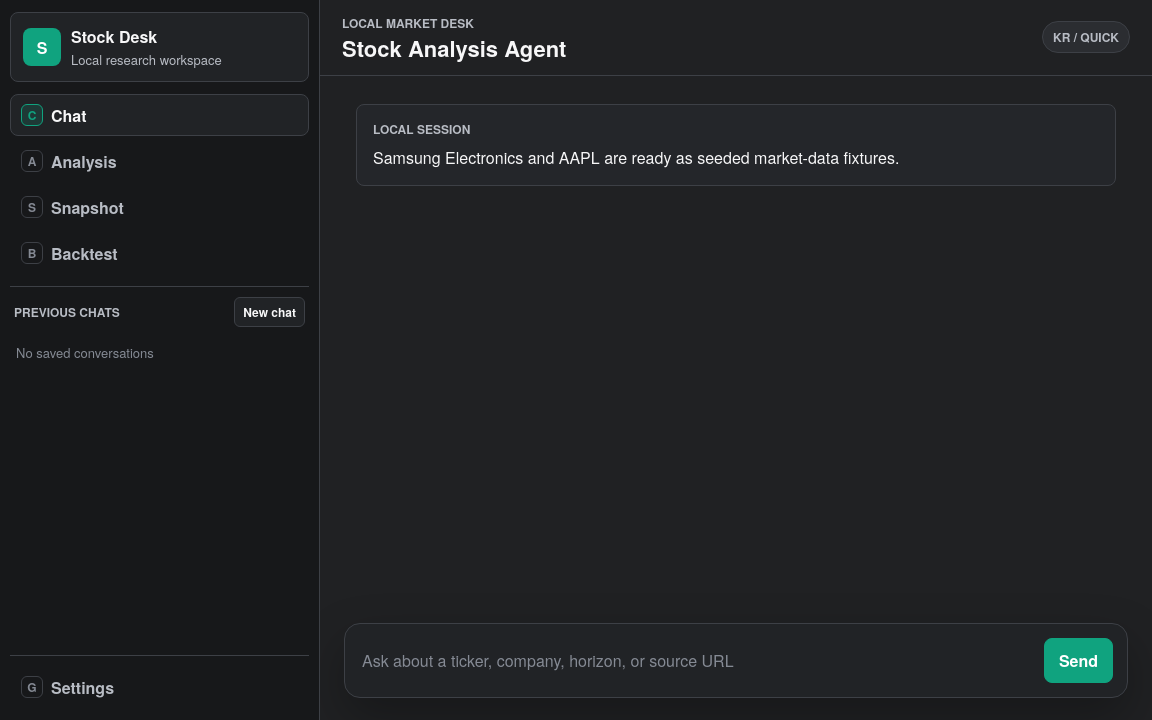
Test case: App › opens a fresh empty chat when New chat is clicked
expect the heading "Stock Analysis Agent" is shown: met, box left=342, top=36, right=566, bottom=61
Type "AAPL" into the field named "Message".
click(696, 660); type("AAPL")  # box left=359, top=638, right=1034, bottom=683
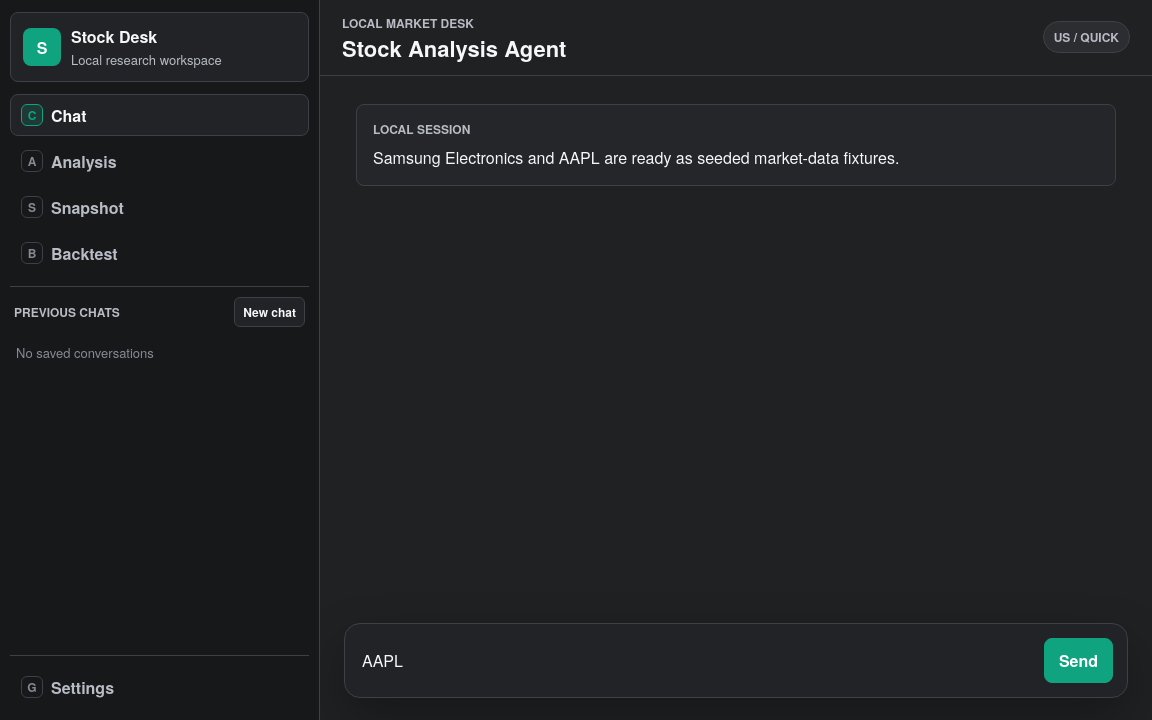
Click the button "Send".
click(1078, 660)  # box left=1044, top=638, right=1113, bottom=683
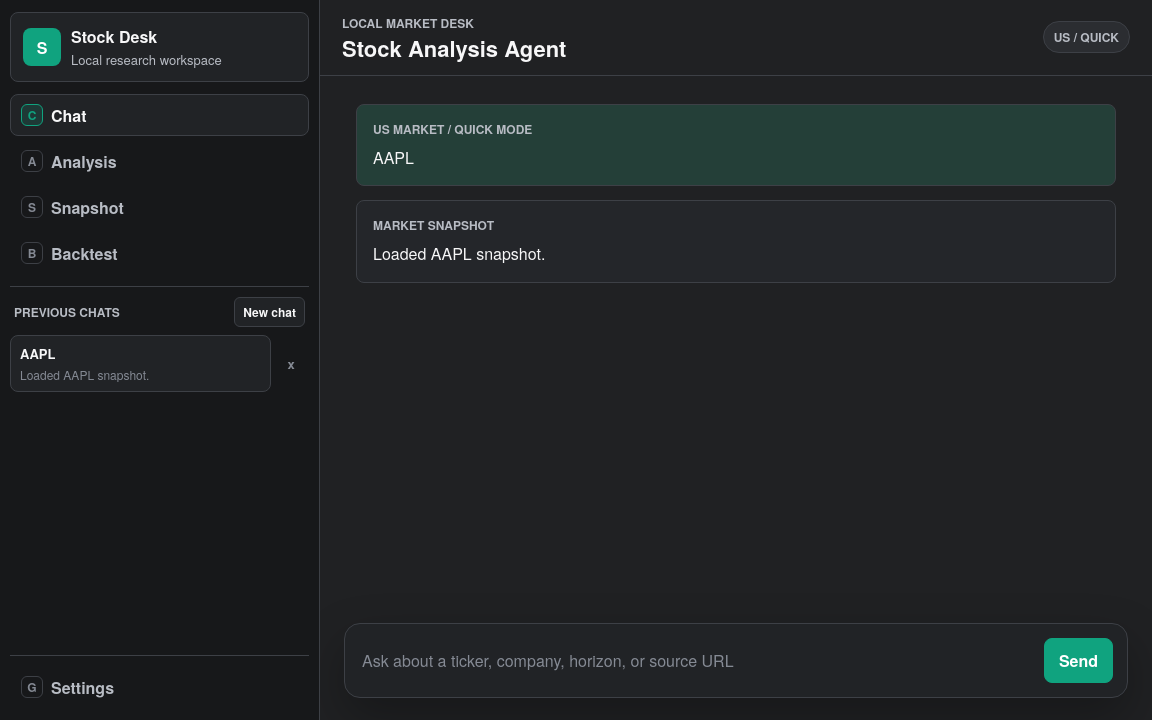
expect the text "Loaded AAPL snapshot." below "market snapshot" is shown: met, box left=373, top=242, right=545, bottom=265
Click the button "New chat".
click(270, 312)  # box left=234, top=297, right=305, bottom=327
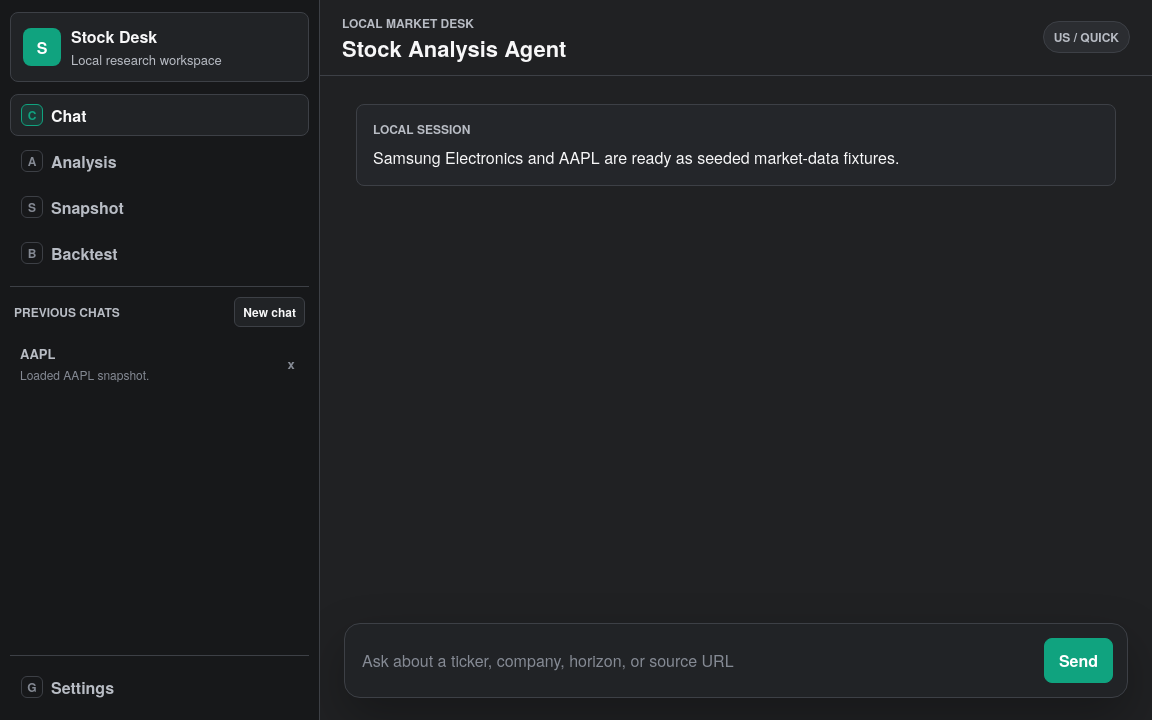
expect the text "Samsung Electronics and AAPL are ready as seeded market-data fixtures." is shown: met, box left=373, top=146, right=899, bottom=169
